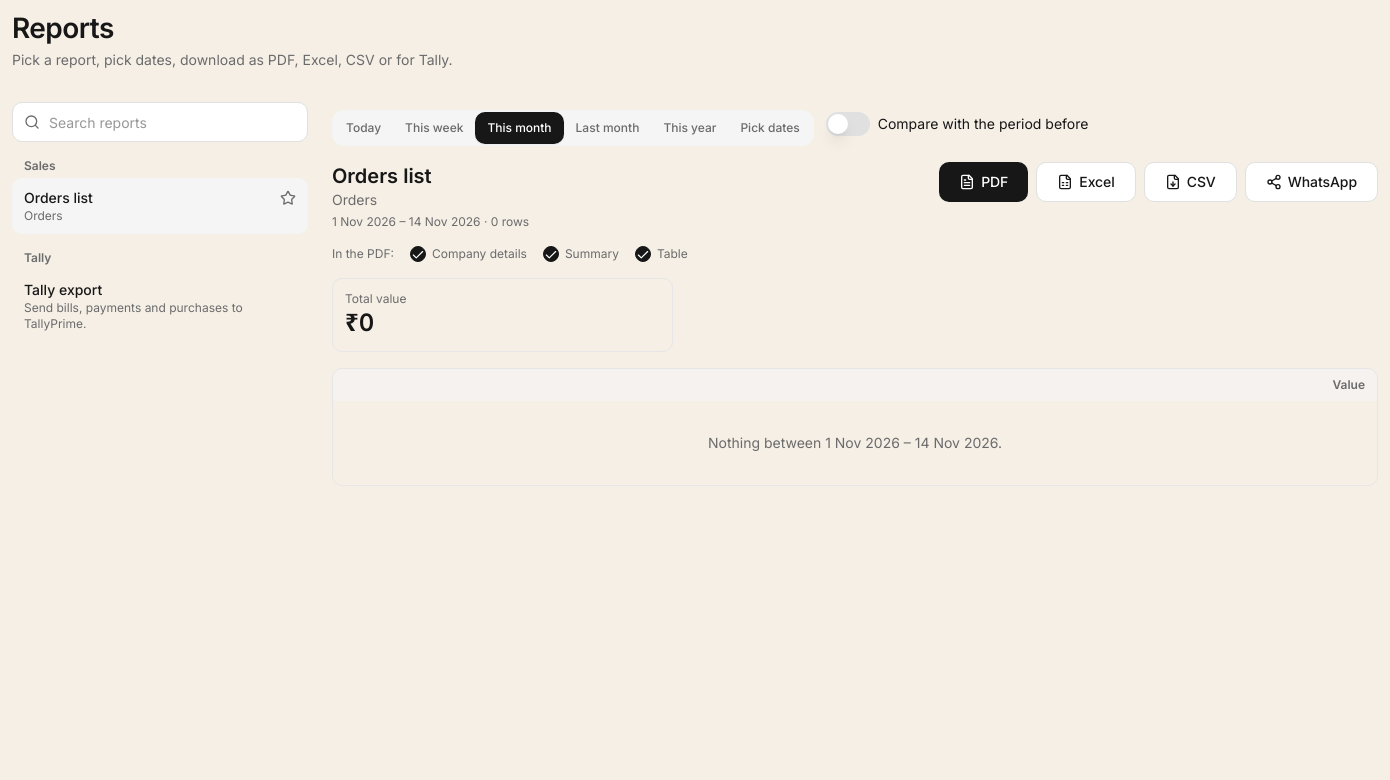
Test case: Reports date selection › allows a future period and exports the same rows and summary after loading
The image size is (1390, 780).
Check: the button "CSV" is enabled, box x1=1144 y1=162 x2=1237 y2=202
Click the button "Pick dates". click: coordinates (770, 128)
box: x1=728 y1=112 x2=812 y2=144
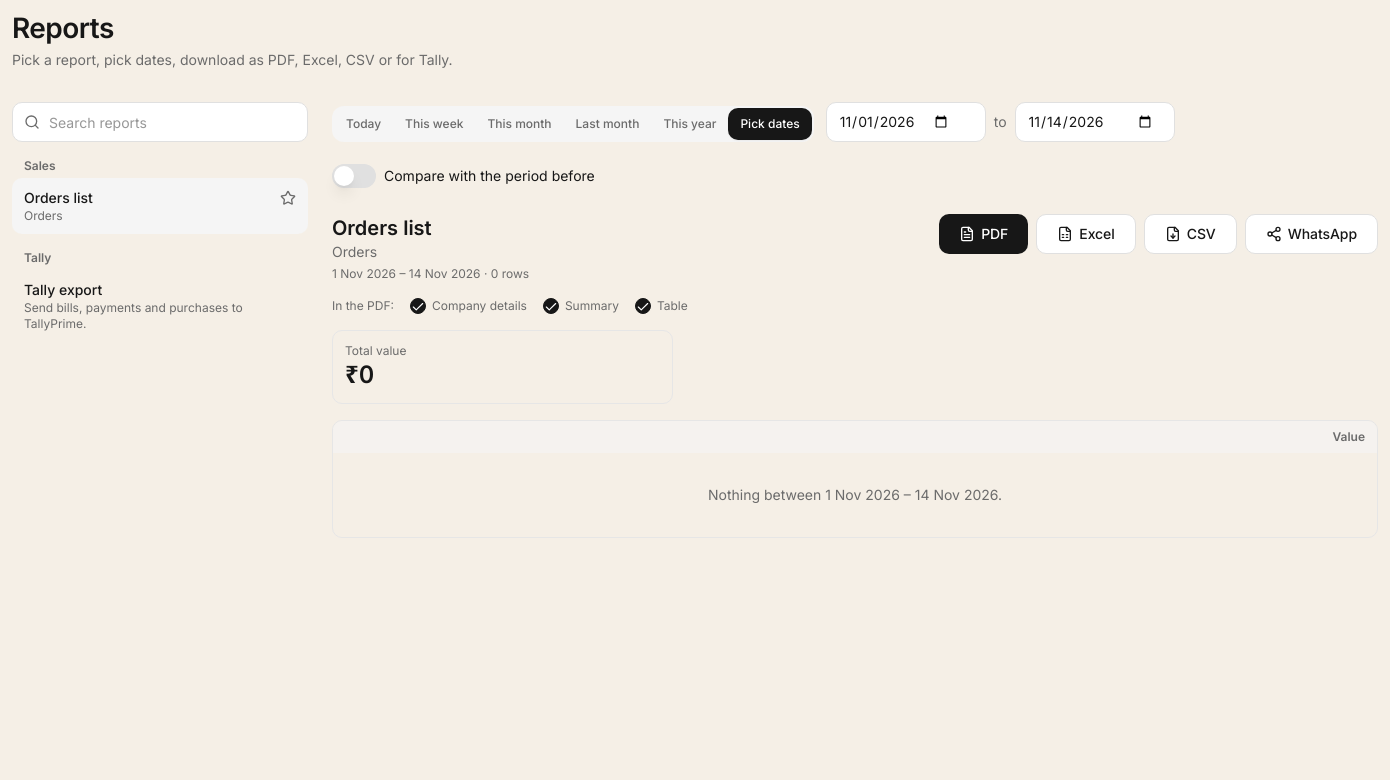
Type "2027-02-20" into the date field named "To date". click: coordinates (1094, 122)
box: x1=1014 y1=102 x2=1174 y2=142
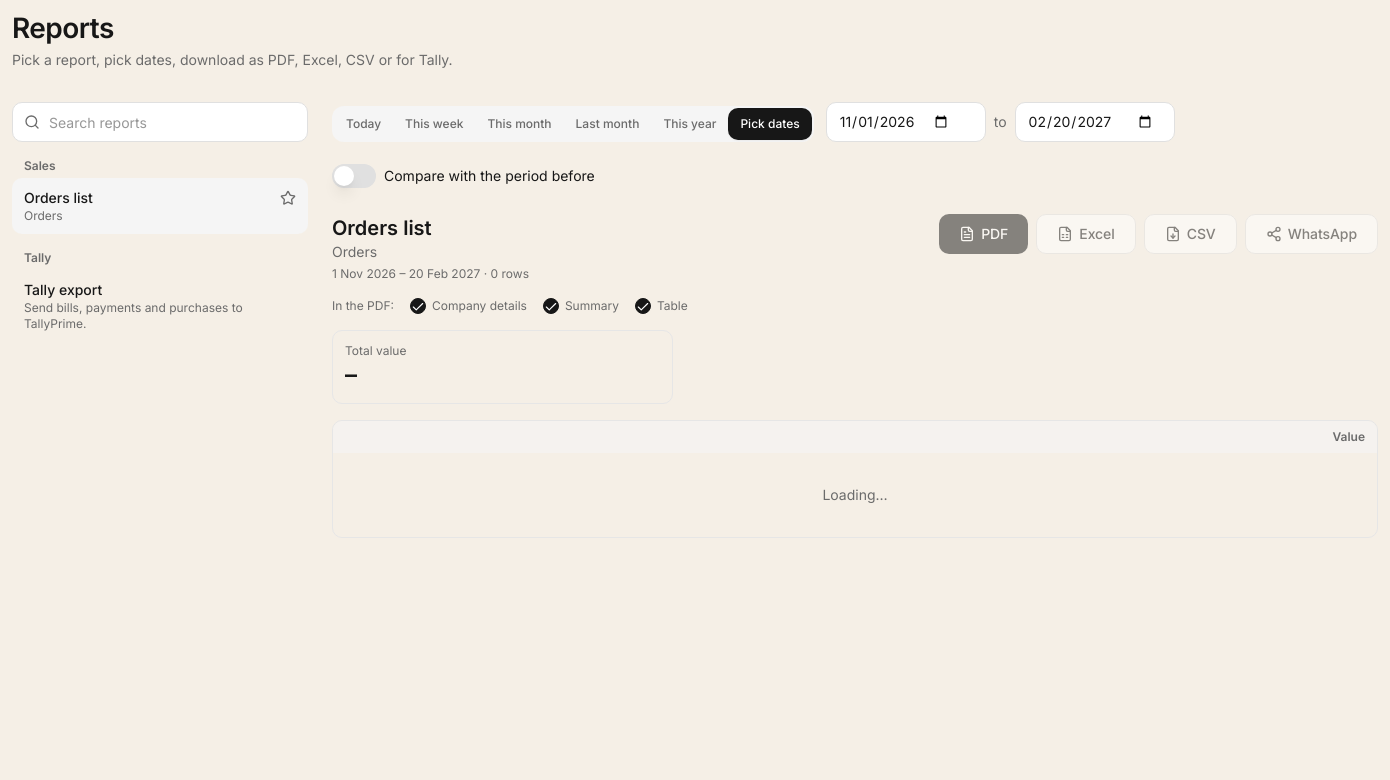
Type "2027-02-10" into the date field named "From date". click: coordinates (906, 122)
box: x1=826 y1=102 x2=986 y2=142
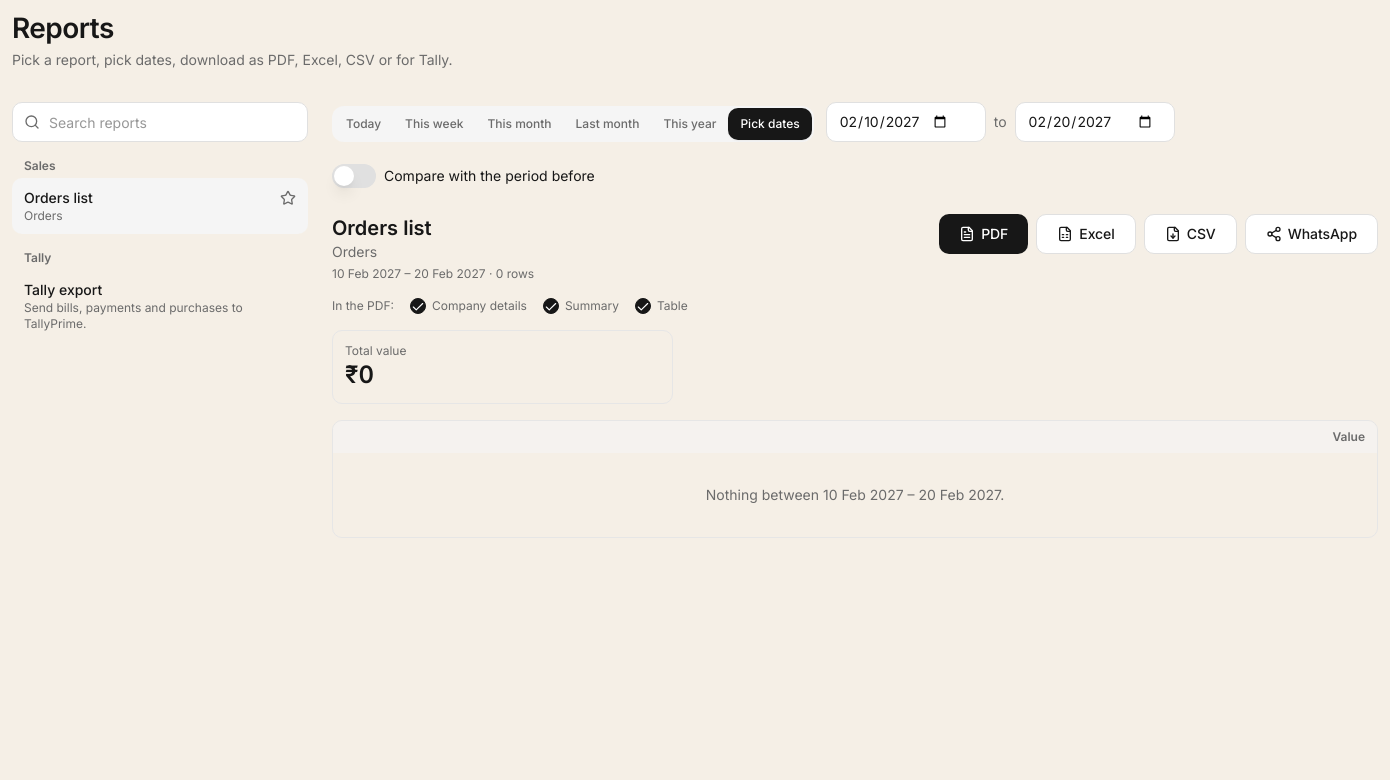
Check: the button "CSV" is enabled
Check: the text "Nothing between 10 Feb 2027 – 20 Feb 2027." is shown, box x1=333 y1=453 x2=1377 y2=537
Click the button "CSV". click: coordinates (1190, 234)
box: x1=1144 y1=214 x2=1237 y2=254
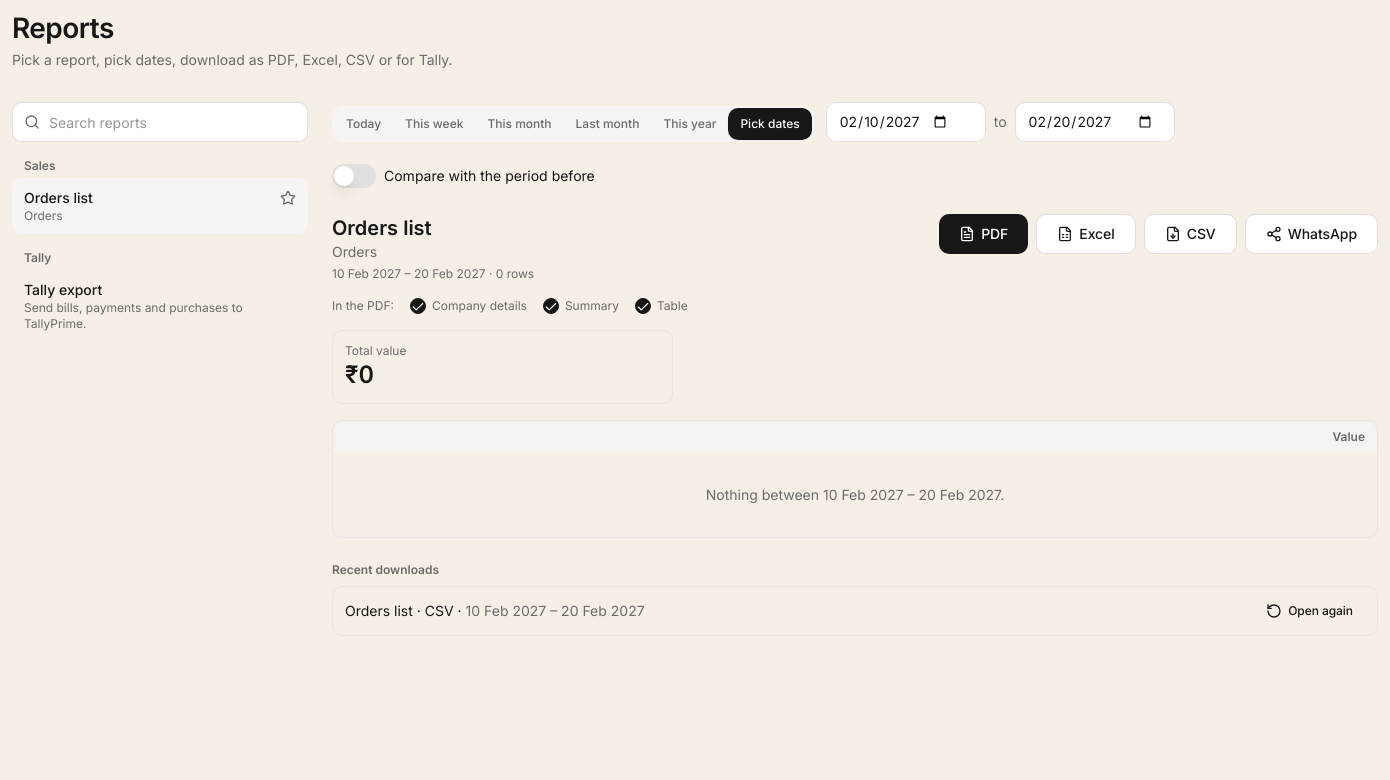
Check: the text "10 Feb 2027 – 20 Feb 2027" is shown, box x1=466 y1=602 x2=645 y2=619
